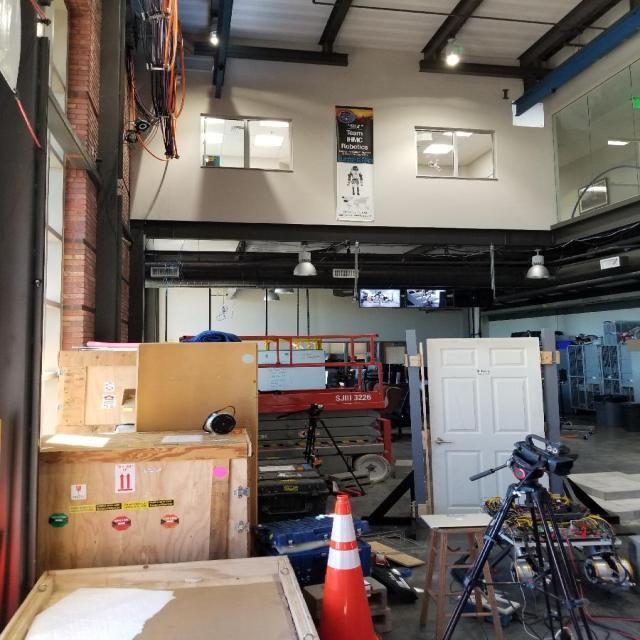door: (423, 336, 551, 520), (435, 437, 458, 448)
